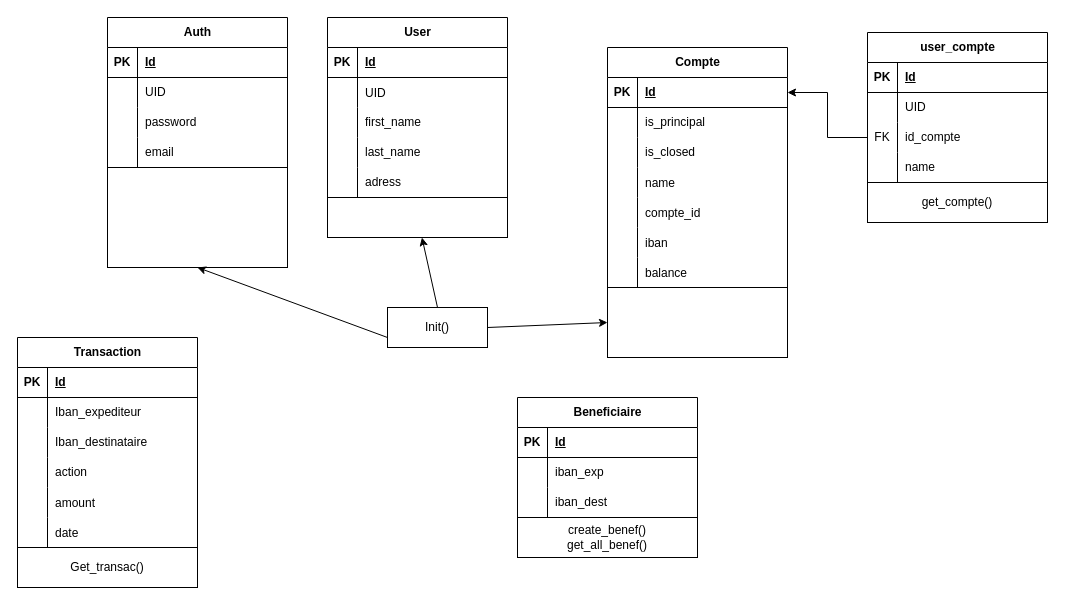
Some shapes in this 1065 by 605 pixel diagram are drawn without their labels. Each missing label, with the centre of its shape:
"Generate_uid() Get_uid() CRUD" goes at point 197,217.
"Get_all() CRUD" goes at point 417,217.
"Get_all() Get (chaque) create_compte() Get_all_comptes()" goes at point 697,322.
